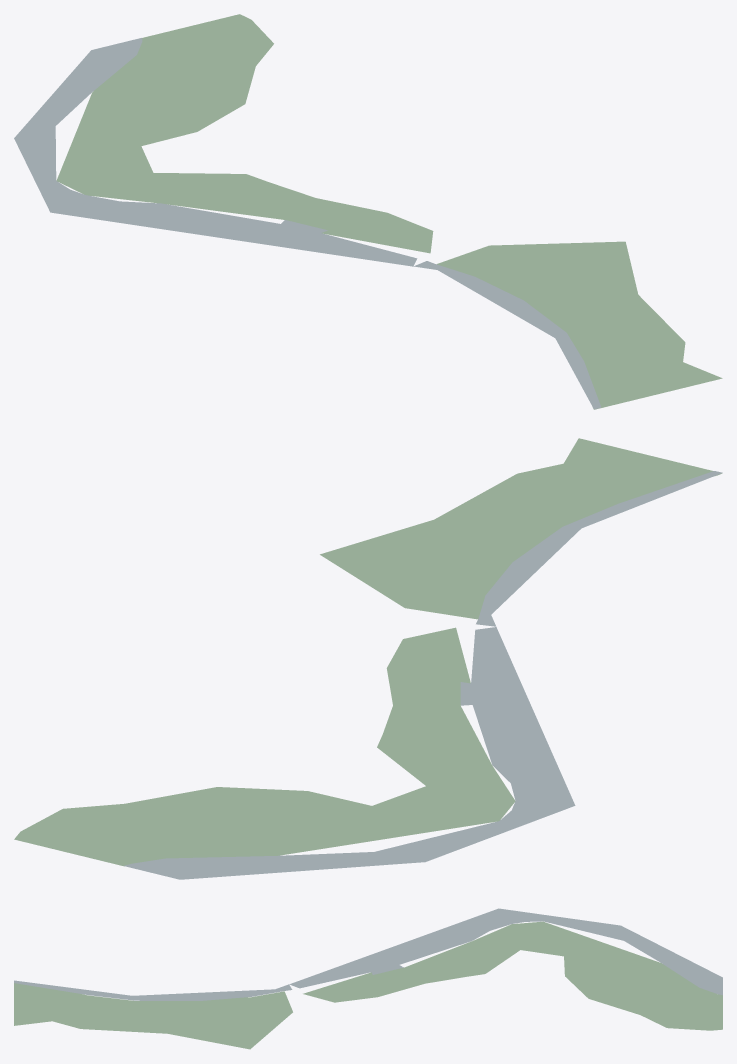
File: 100_84_mid.glb
The picture shows the model from 3 angles, top to bottom: view 1: azimuth 30°, elevation 25°; view 2: azimuth 150°, elevation 25°; view 3: azimuth 270°, elevation 25°; orthographic projection. The views are drawn at different scales.
Bounding box in the file's own units: 235 × 0.2605 × 500.
